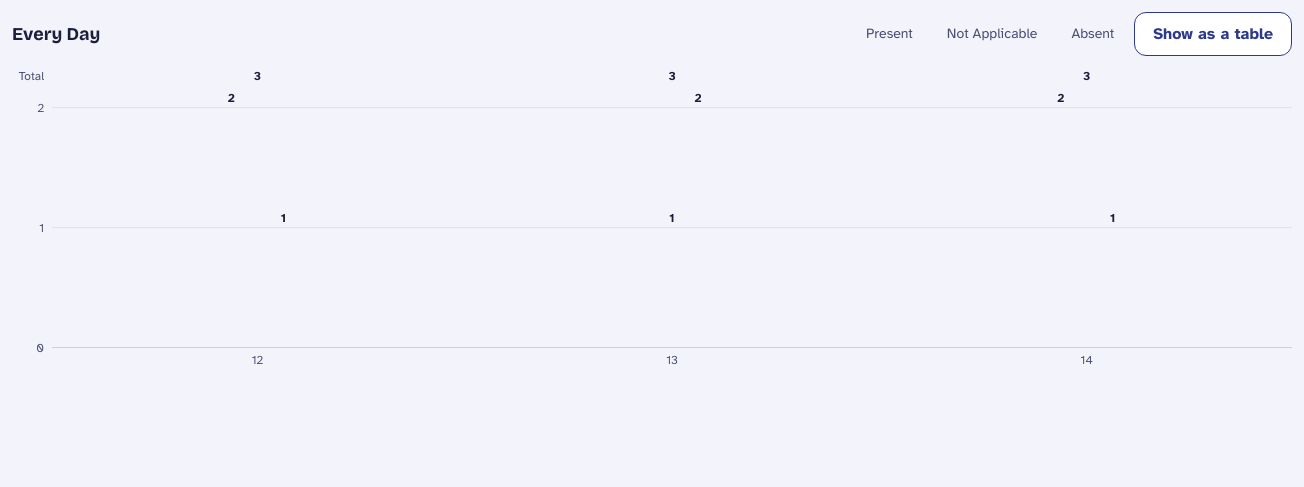
Test case: the chart of every Day › shows who was Absent on a Day when the Day is pressed
The image size is (1304, 487).
Click the button named "Tuesday 13 October" at (672,228), box [467,108,877,347]
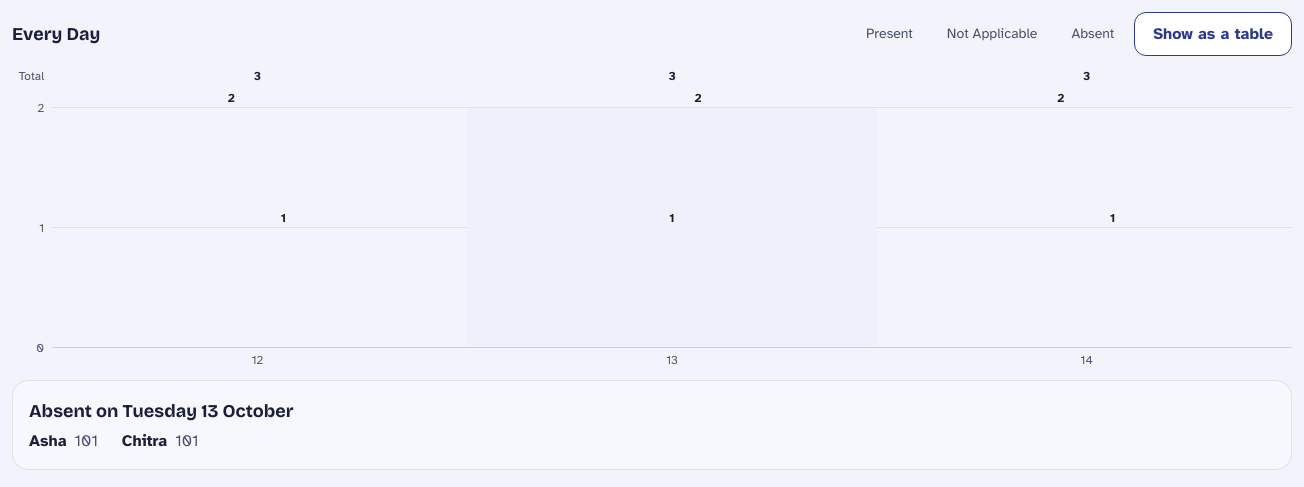
Result: the list items read "Asha101", "Chitra101", in this order at [29,429,98,453]; [122,429,198,453]
